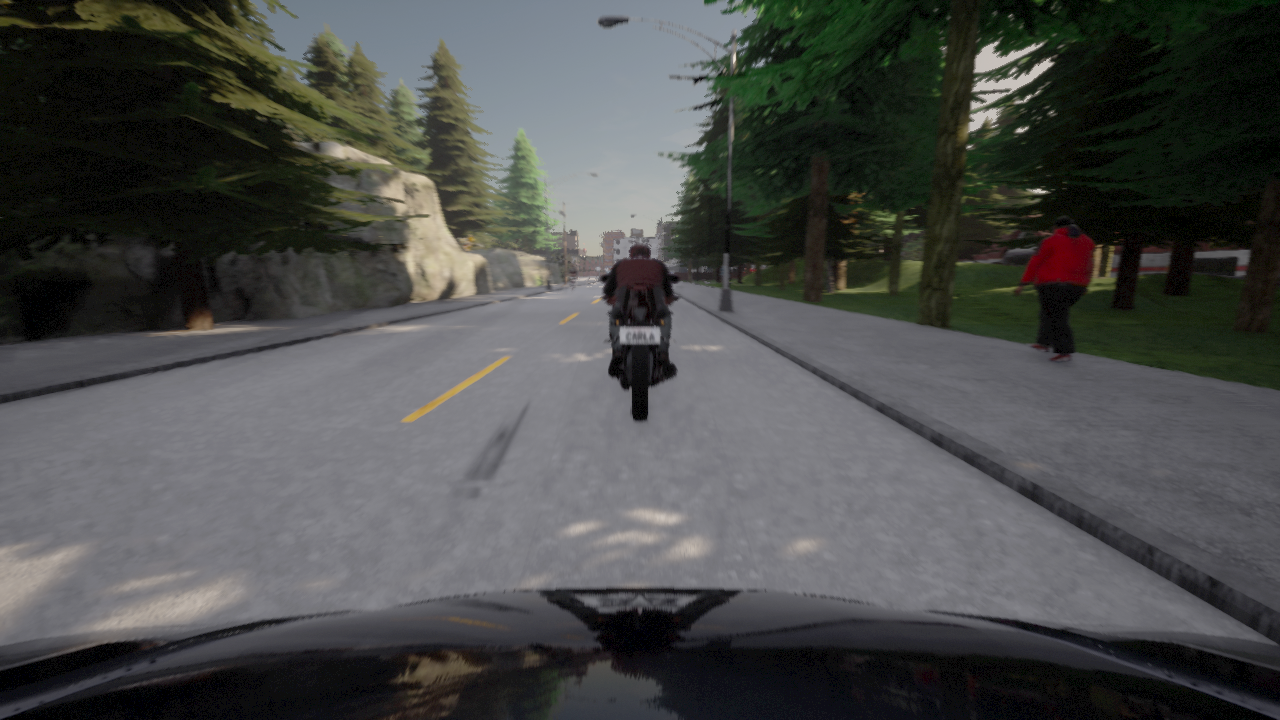cyclist: (0, 588, 1279, 719), (600, 274, 679, 421), (571, 282, 574, 293)
pedestrian: (1015, 216, 1094, 362), (720, 262, 724, 281)
